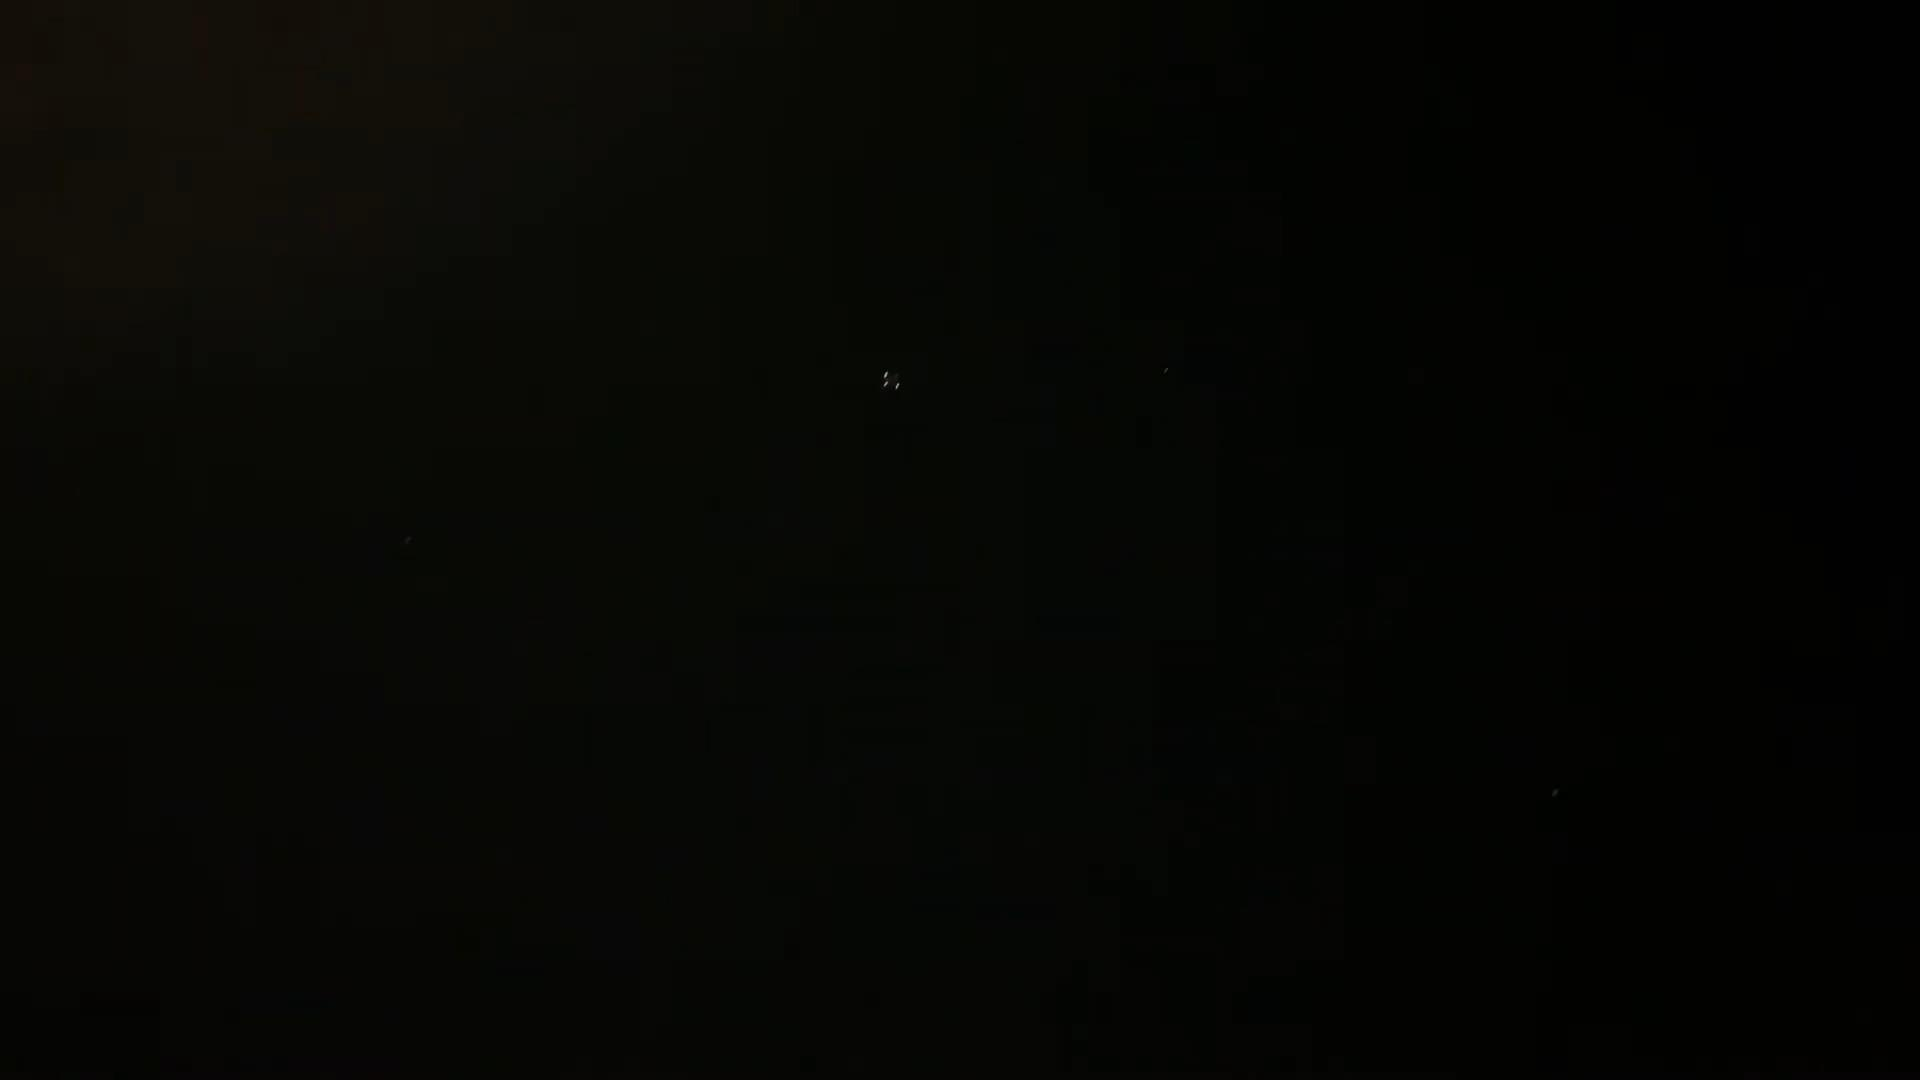Plane: (866, 357, 920, 402)
